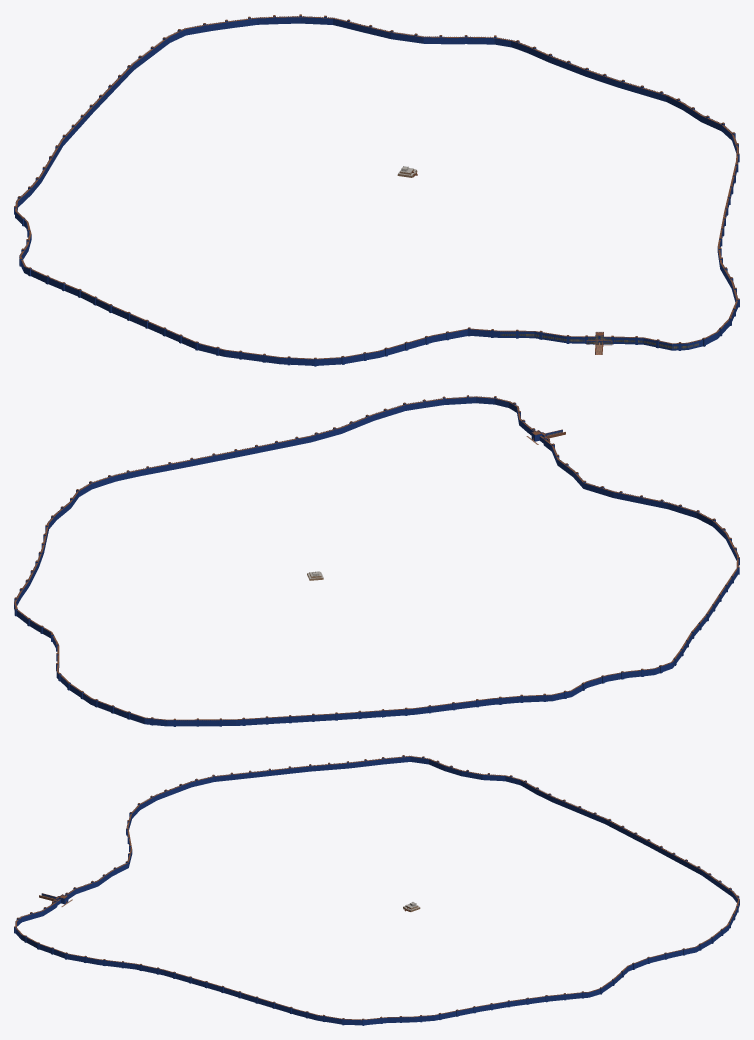
Rendered from uruk_walls.glb.
3 renders of one model, top to bottom at view 1: azimuth 30°, elevation 25°; view 2: azimuth 150°, elevation 25°; view 3: azimuth 270°, elevation 25°, orthographic. The views are drawn at different scales.
Parts seen in each view (by area): view 1: uruk_walls; view 2: uruk_walls; view 3: uruk_walls.
Boxes of the visible parts, left/top/right/bottom form: uruk_walls: left=14, top=14, right=739, bottom=366; uruk_walls: left=14, top=395, right=739, bottom=726; uruk_walls: left=14, top=755, right=739, bottom=1025.
Size of the model in its own units: 2619 by 43.38 by 3034.
Materials: 13 (12 with a texture image).
